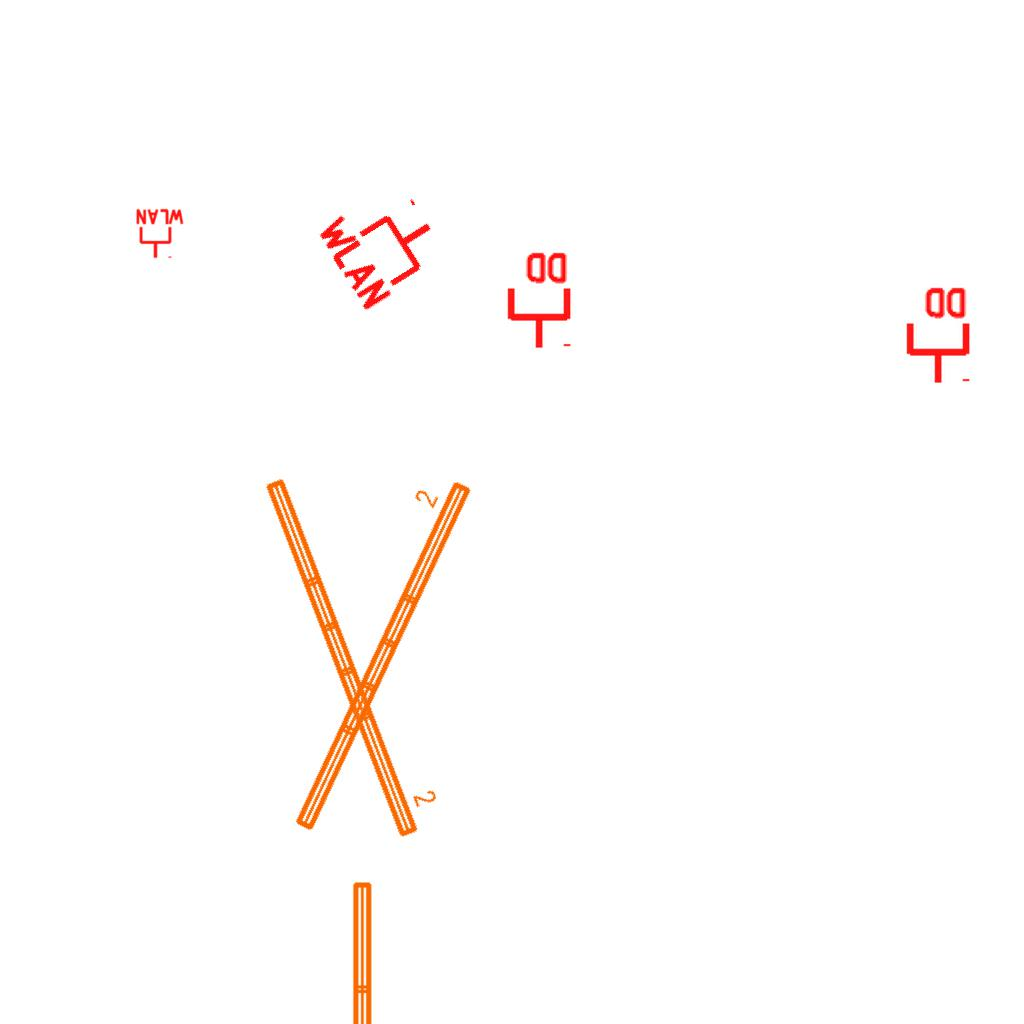Ambulanz_Pendelleuchte_LED: (264, 463, 479, 839), (258, 462, 449, 844), (347, 877, 403, 1024)
Datenanschluss_zweifach: (503, 248, 572, 351), (902, 283, 971, 386)
WLAN: (311, 172, 456, 316), (134, 208, 186, 260)
